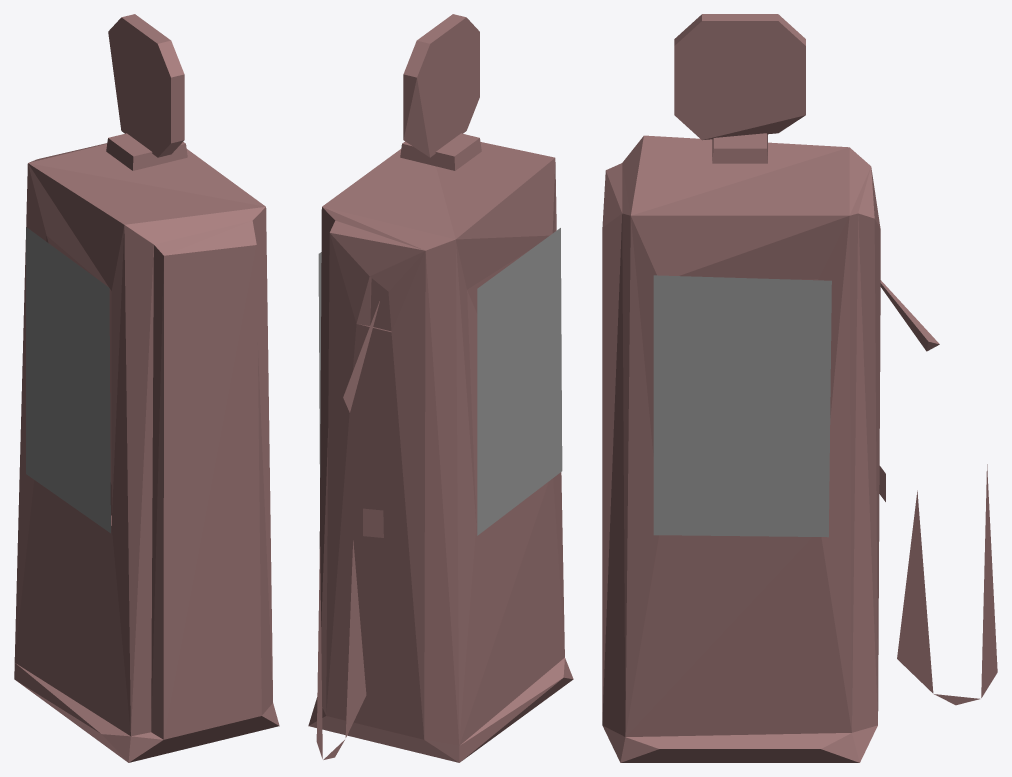
File: fuel-dispenser.lod2.glb
The picture shows the model from 3 angles, left to right: view 1: azimuth 30°, elevation 25°; view 2: azimuth 150°, elevation 25°; view 3: azimuth 270°, elevation 25°; orthographic projection. The views are drawn at different scales.
Visible parts, largest first — view 1: defaultMaterial; view 2: defaultMaterial; view 3: defaultMaterial.
Boxes of the visible parts, <box> form: defaultMaterial: <box>14,14,279,762</box>; defaultMaterial: <box>308,14,573,762</box>; defaultMaterial: <box>602,14,997,762</box>.
Size of the model in its own units: 0.5918 by 2.27 by 1.15.
